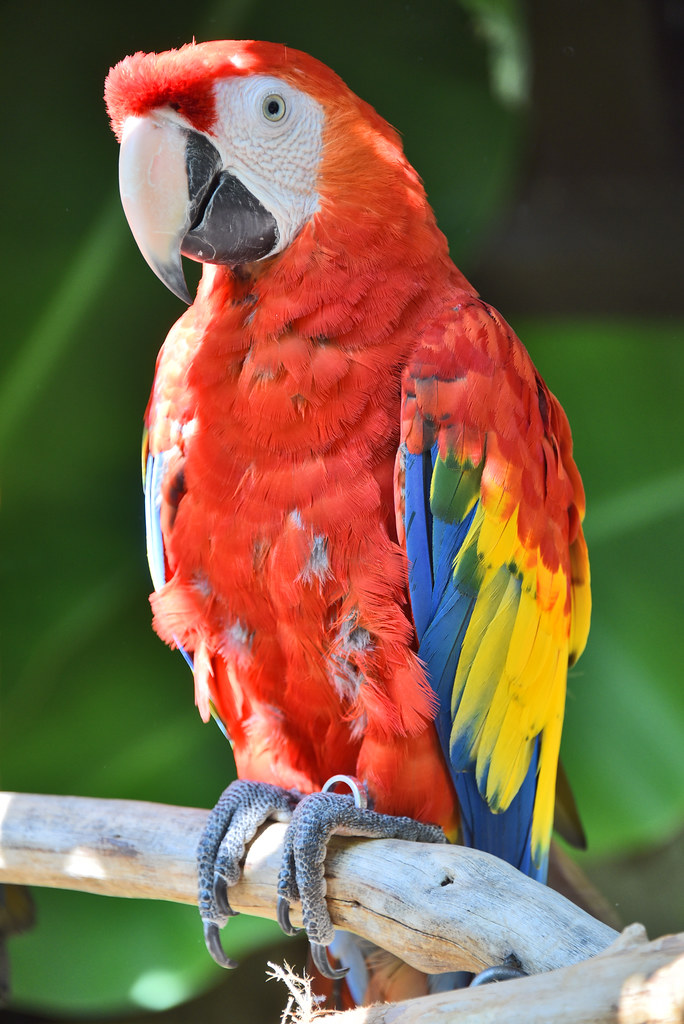Lapa: (100, 36, 606, 961)
